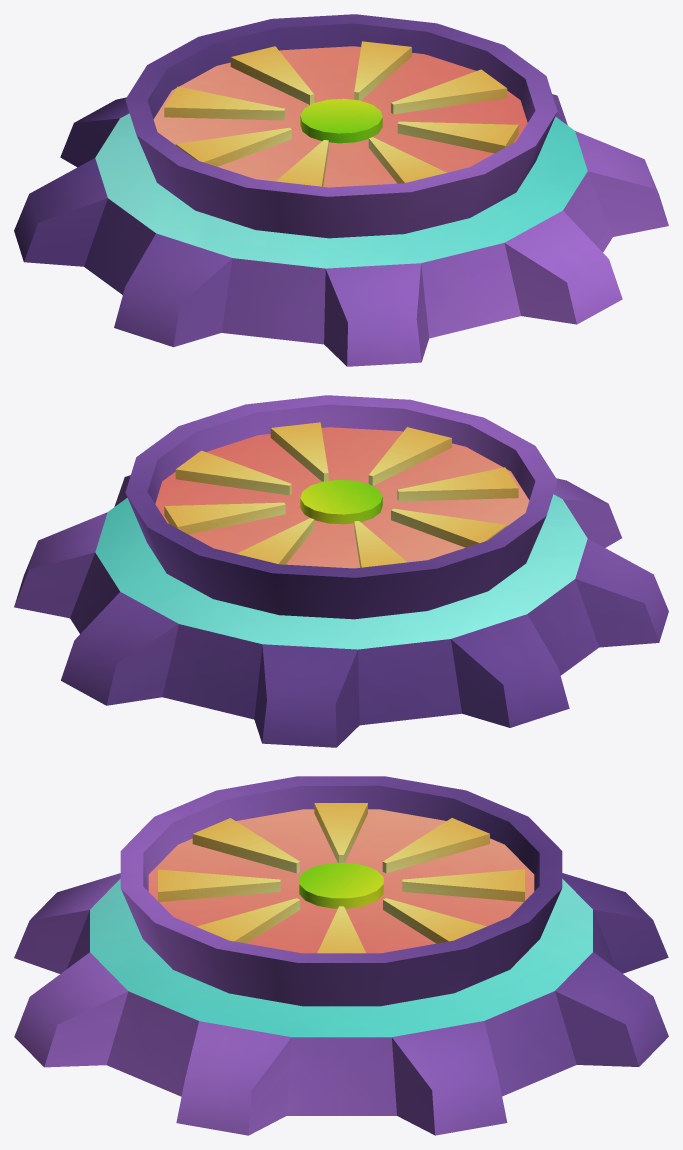
File: tru1.fbx
The picture shows the model from 3 angles, top to bottom: view 1: azimuth 30°, elevation 25°; view 2: azimuth 150°, elevation 25°; view 3: azimuth 270°, elevation 25°; orthographic projection. The views are drawn at different scales.
Parts seen in each view (by area): view 1: stand1; view 2: stand1; view 3: stand1.
Part boxes in pixels (x1,y1,x2,y2): stand1: [14, 14, 668, 366]; stand1: [14, 395, 668, 747]; stand1: [14, 776, 668, 1135].
Size of the model in its own units: 232 by 50.37 by 232.
